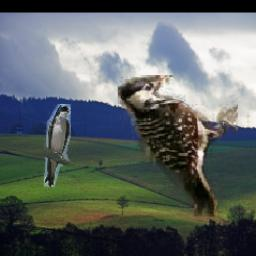Swallow: (45, 104, 72, 187)
Woodpecker: (118, 76, 238, 218)
